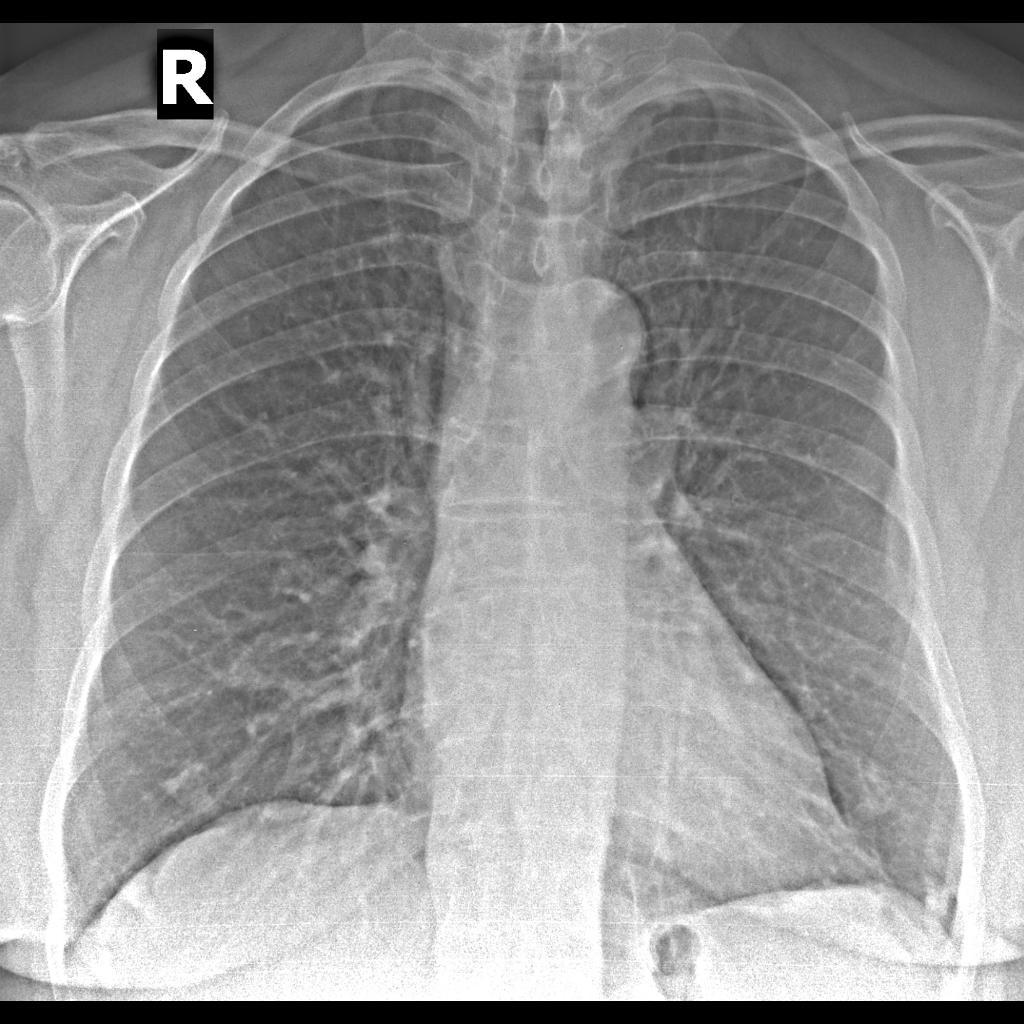Nodule: (915, 874, 961, 928)
